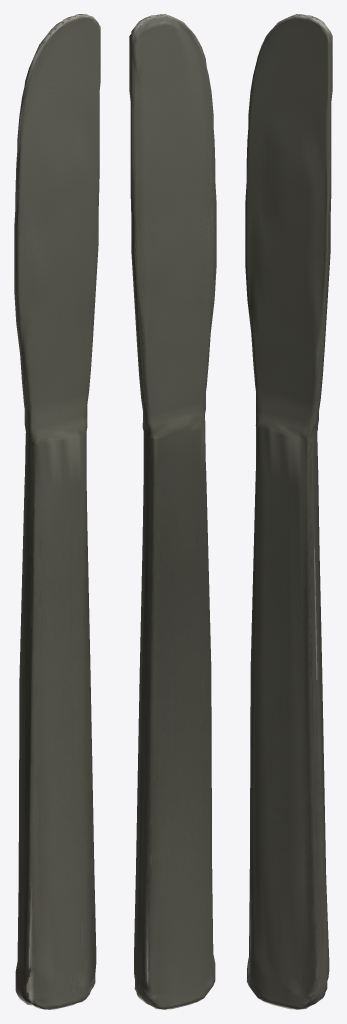
File: Meshy_AI_Stainless_Steel_Dinner_knife_0225002957_texture.glb
3 views of the same model, side by side, from view 1: azimuth 30°, elevation 25°; view 2: azimuth 210°, elevation 25°; view 3: azimuth 330°, elevation 25° (orthographic).
Parts seen in each view (by area): view 1: Mesh_0; view 2: Mesh_0; view 3: Mesh_0.
Part boxes in pixels (x1=…): Mesh_0: x1=14, y1=14, x2=100, y2=1009; Mesh_0: x1=129, y1=14, x2=216, y2=1009; Mesh_0: x1=245, y1=14, x2=332, y2=1009.
Bounding box in the file's own units: 0.0179 × 0.2032 × 0.00709.
Materials: 1 (1 with a texture image).
